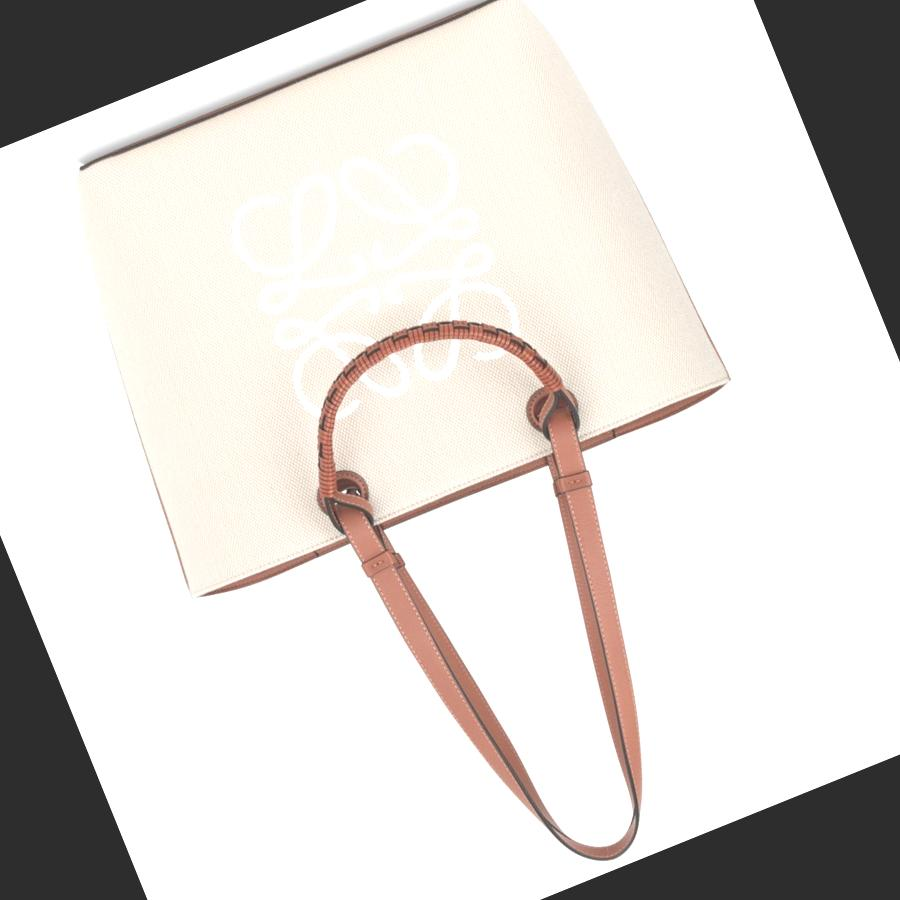LOEWE: (191, 90, 566, 467)
